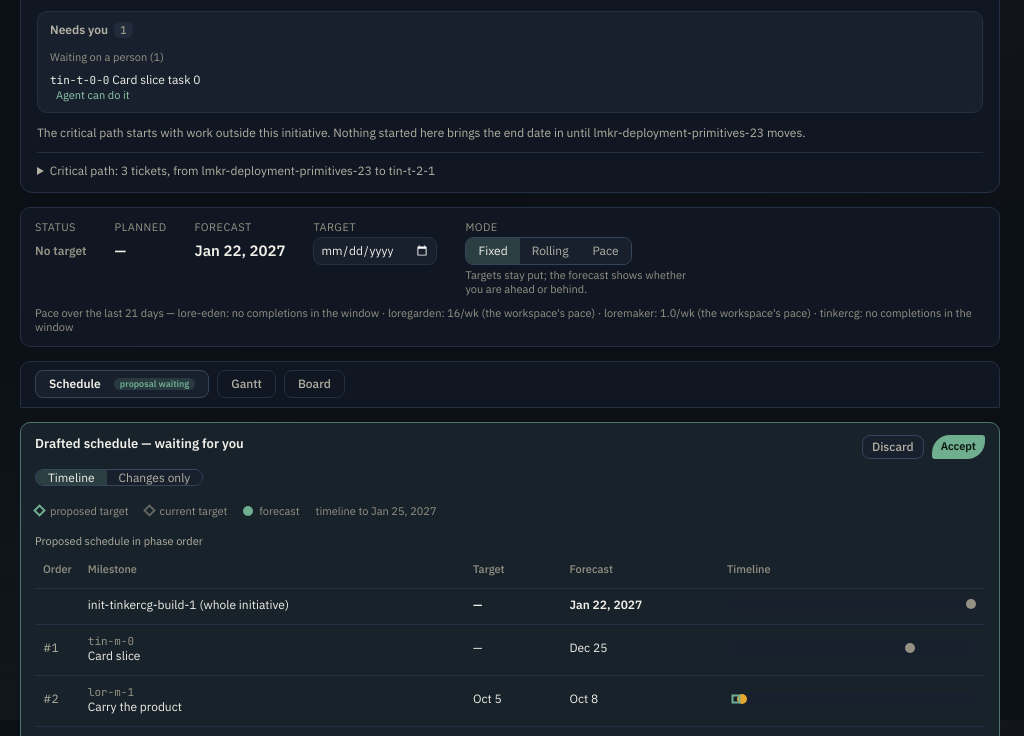
Test: the board is reachable above a pending proposal, and the schedule tab says one is waiting
(page scrolled)
Expected: the tab "Schedule proposal waiting" is shown, [35,370,209,398]
Click the tab "Board". click: click(314, 384)
box: [284,370,345,398]
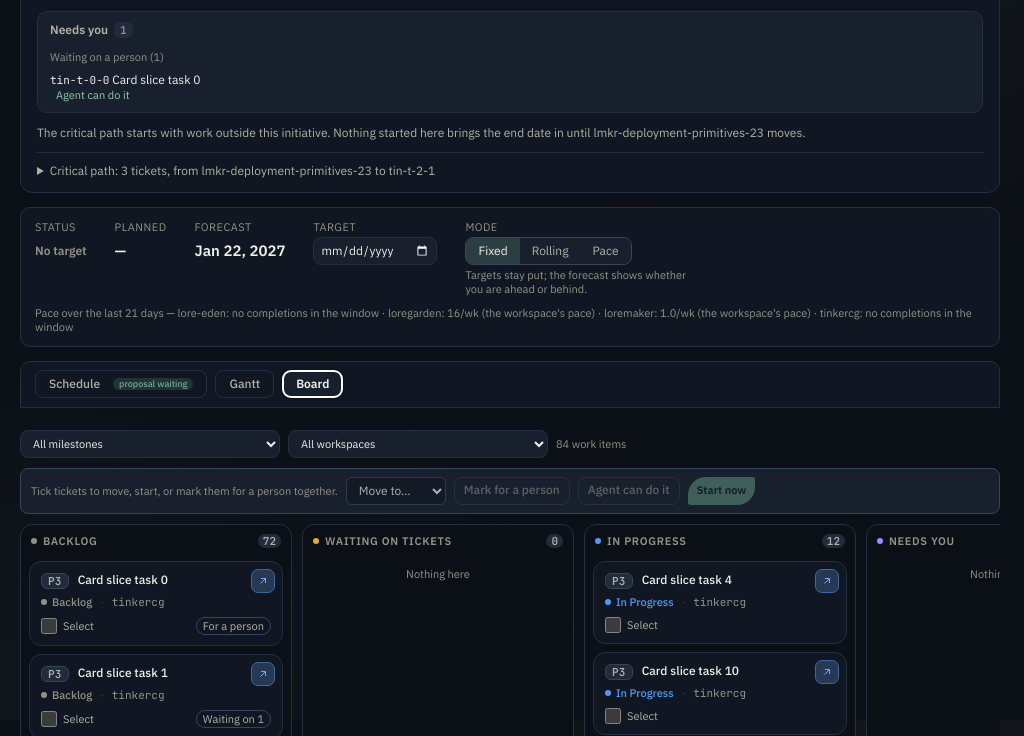
Expected: the tab "Schedule proposal waiting" is shown, [35,370,208,398]
Expected: the heading "Drafted schedule" is gone
